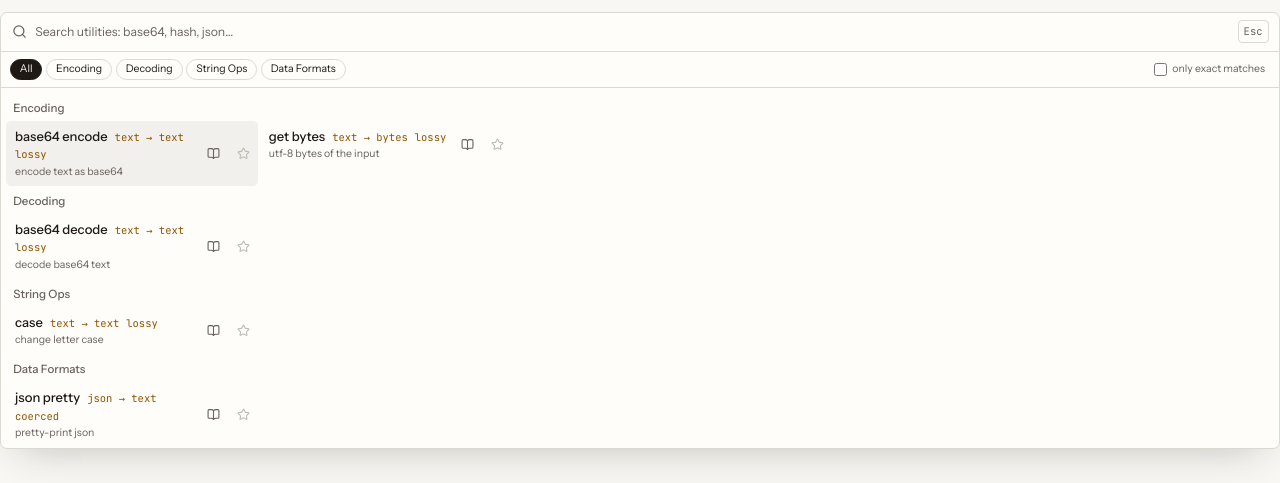
Test: UtilityPicker › the "only exact matches" toggle filters out non-exact results
Click the checkbox labelled "only exact matches" at (1161, 69), box left=1154, top=62, right=1167, bottom=76
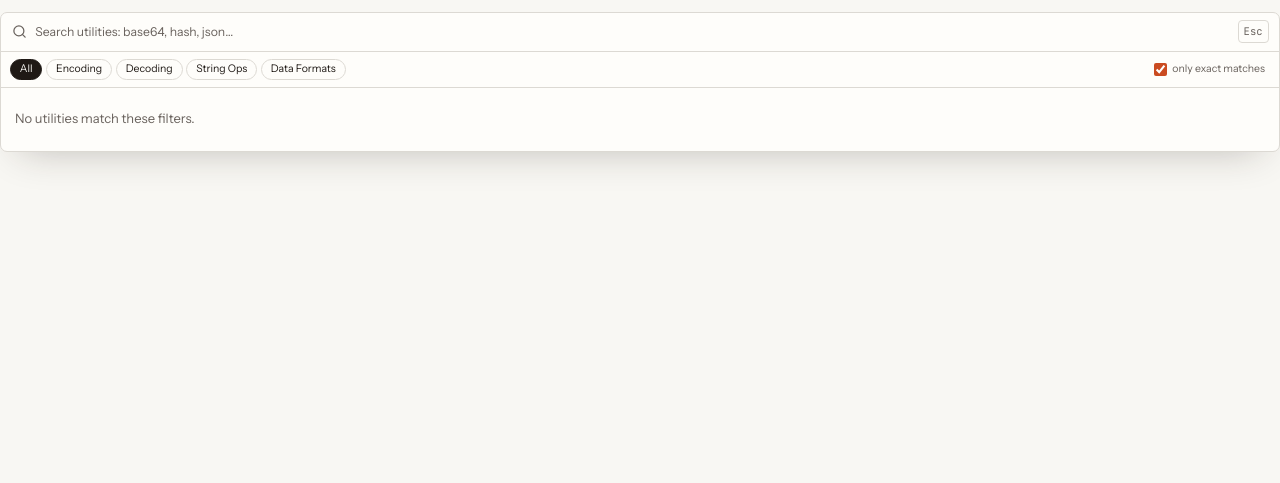
Expected: the text "No utilities match these filters." is shown, left=15, top=110, right=194, bottom=126
